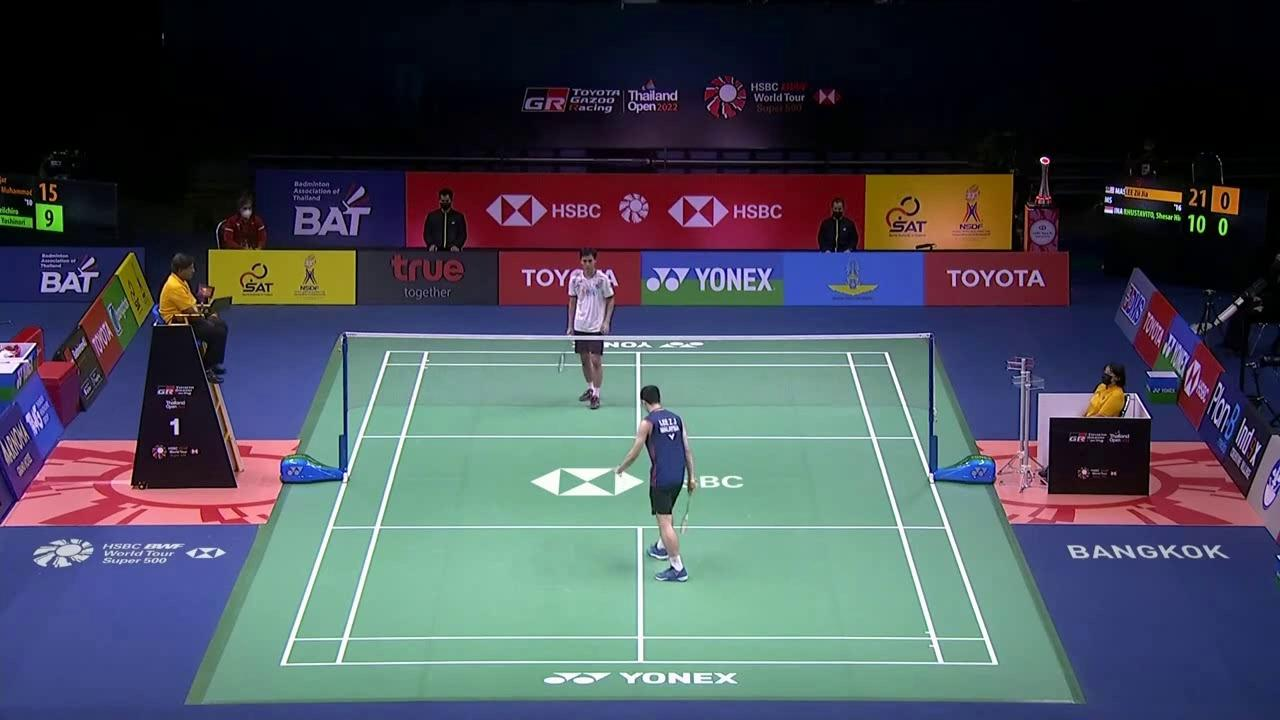racket: (679, 481, 696, 535), (558, 331, 573, 373)
shuttle: (614, 463, 622, 478)
